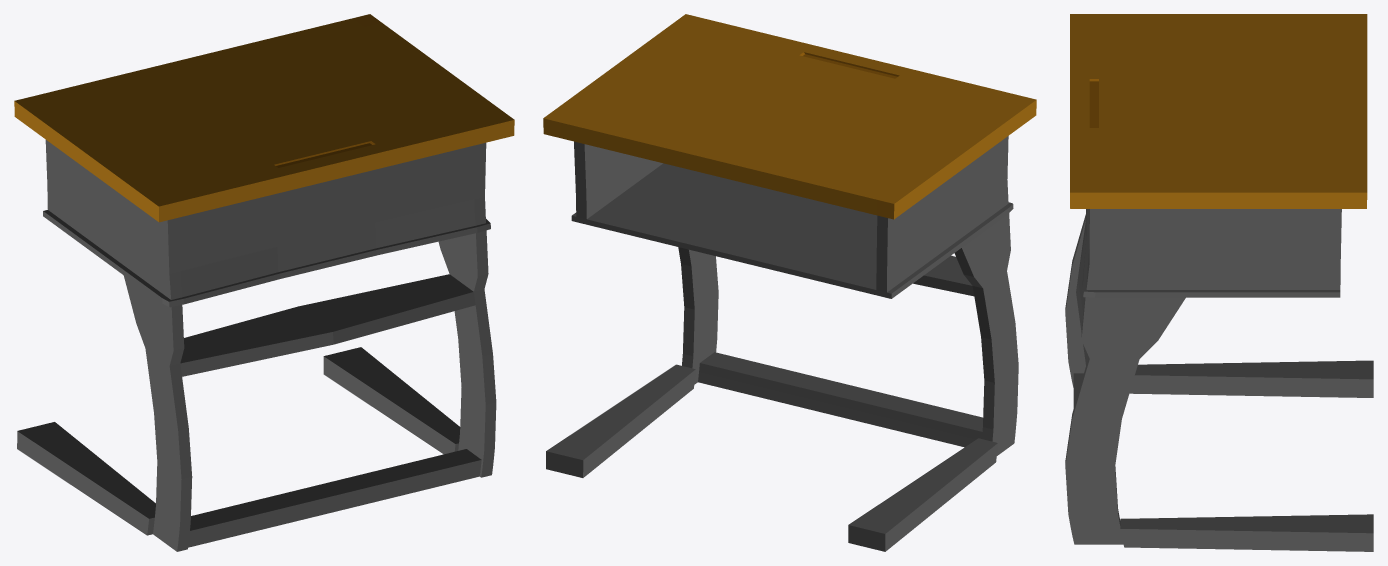
The model's file is Desk 3.fbx.
The picture shows the model from 3 angles, left to right: view 1: azimuth 30°, elevation 25°; view 2: azimuth 150°, elevation 25°; view 3: azimuth 270°, elevation 25°; orthographic projection. The views are drawn at different scales.
Parts seen in each view (by area): view 1: Node 0; view 2: Node 0; view 3: Node 0.
Boxes of the visible parts, x1,y1,x2,y2 form: Node 0: [14, 14, 514, 551]; Node 0: [543, 14, 1036, 551]; Node 0: [1065, 14, 1373, 551].
Bounding box in the file's own units: 0.7066 × 0.9159 × 0.9692.
